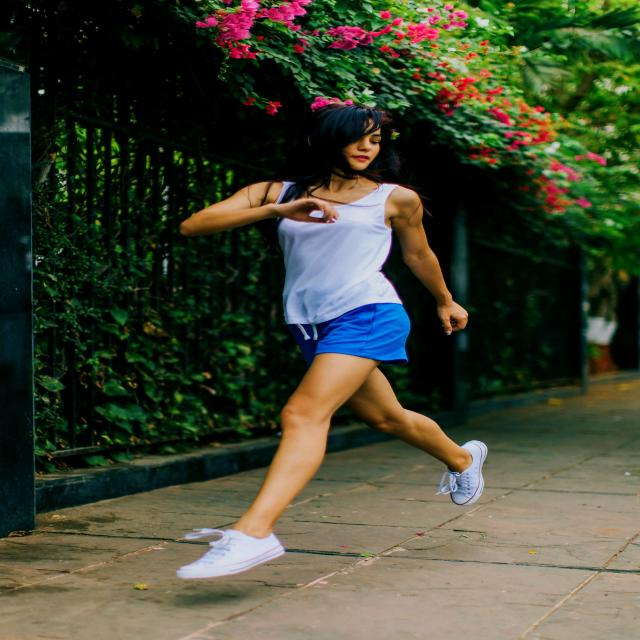adult: (170, 105, 490, 583)
